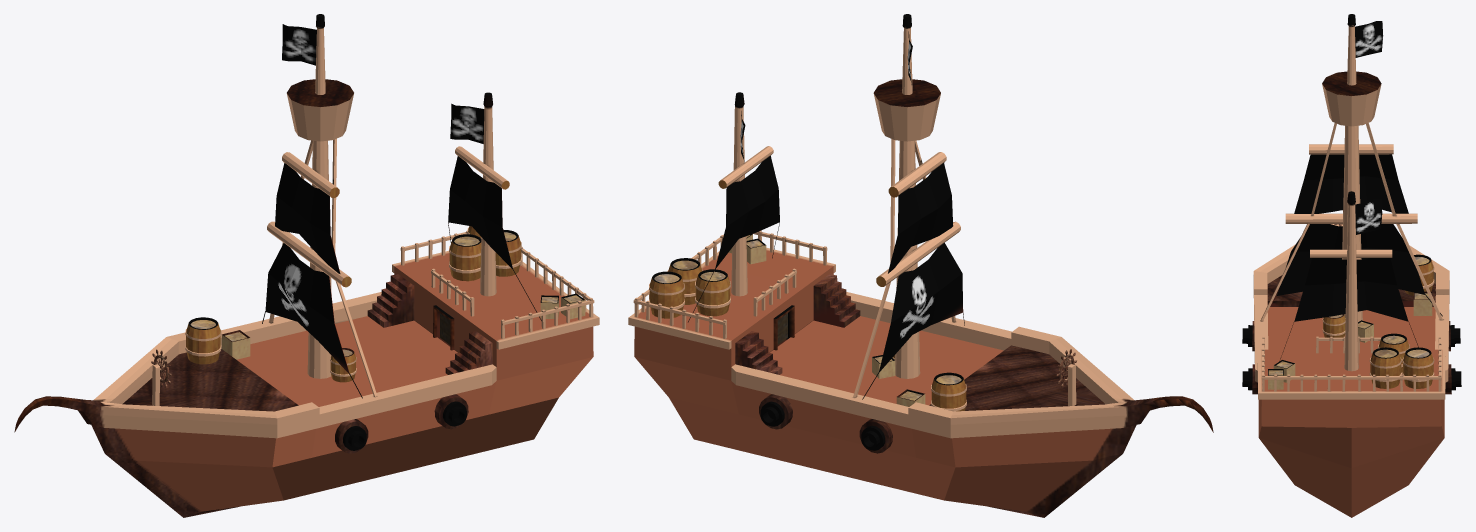
Rendered from pShip.obj.
3 renders of one model, left to right at view 1: azimuth 30°, elevation 25°; view 2: azimuth 150°, elevation 25°; view 3: azimuth 270°, elevation 25°, orthographic. The views are drawn at different scales.
Visible parts, largest first — view 1: Cube.001; view 2: Cube.001; view 3: Cube.001.
Part boxes in pixels (bbox=[...]): Cube.001: bbox=[14, 14, 599, 517]; Cube.001: bbox=[628, 14, 1213, 517]; Cube.001: bbox=[1242, 14, 1461, 517].
Bounding box in the file's own units: 9.69 × 8.05 × 3.84.
